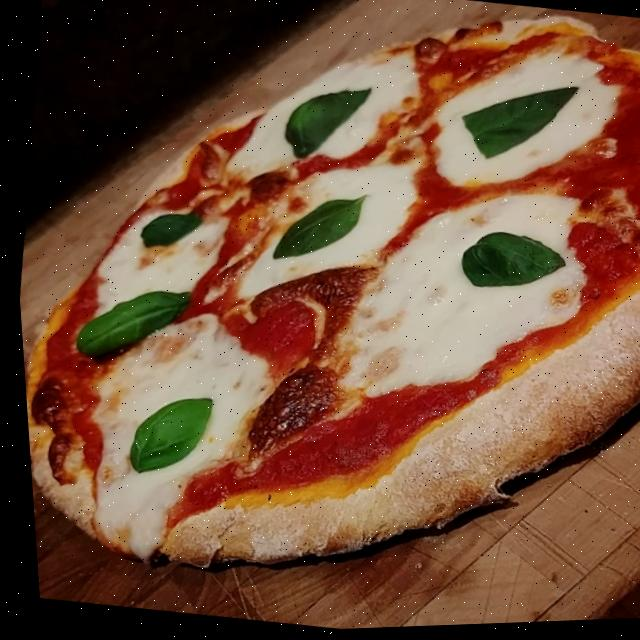basil: (453, 76, 580, 174), (67, 277, 192, 372), (118, 390, 211, 484), (266, 187, 367, 272), (278, 80, 373, 169), (453, 230, 566, 303), (135, 208, 202, 255)
pizza: (0, 0, 640, 632)
